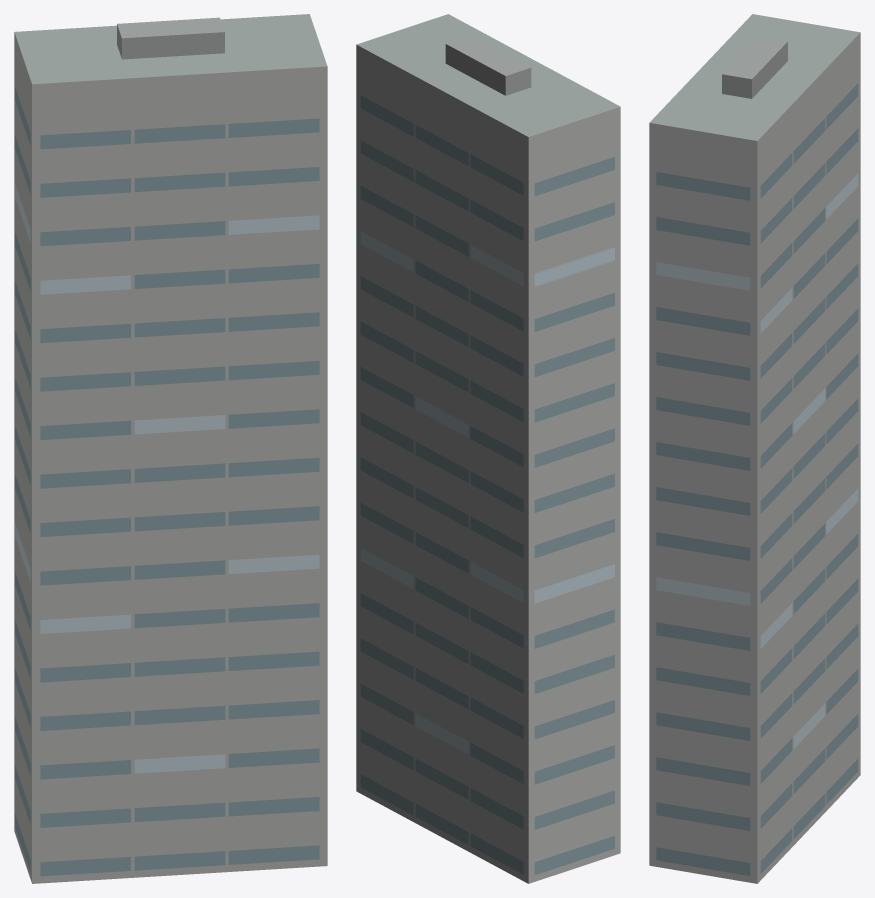
The model's file is fallback-jamsil-els-142.glb.
3 views of the same model, side by side, from view 1: azimuth 30°, elevation 25°; view 2: azimuth 150°, elevation 25°; view 3: azimuth 270°, elevation 25° (orthographic). The views are drawn at different scales.
Parts seen in each view (by area): view 1: fallback-jamsil-els-142; view 2: fallback-jamsil-els-142; view 3: fallback-jamsil-els-142.
Boxes of the visible parts, <box> form: fallback-jamsil-els-142: <box>14,14,327,883</box>; fallback-jamsil-els-142: <box>356,14,620,883</box>; fallback-jamsil-els-142: <box>649,14,860,883</box>.
Size of the model in its own units: 33.24 by 93 by 23.34.
